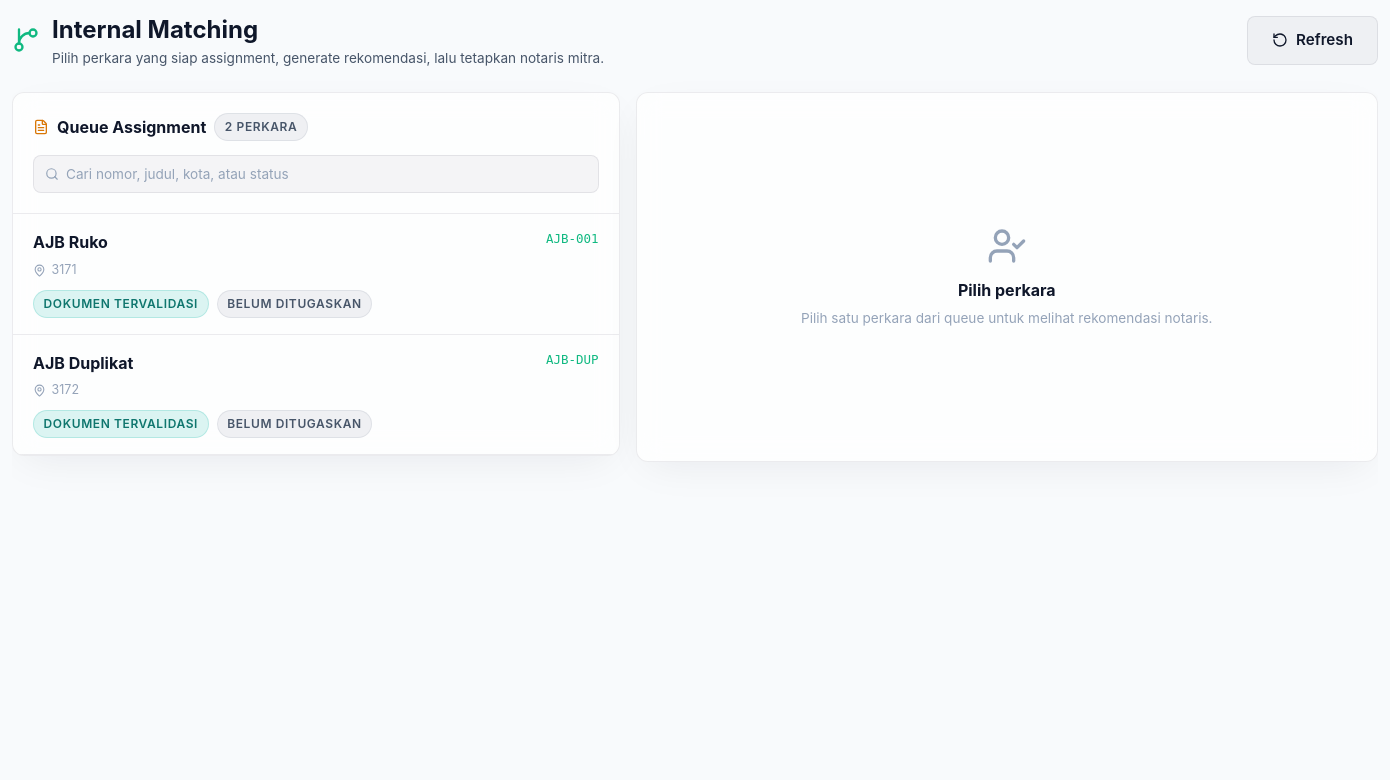
it: InternalMatching › selecting a matter enables recommendation fetch
What coordinates should you click on to do the following:
click the text "AJB Ruko"
I would click on:
 (70, 242)
Its box is [33, 230, 108, 254].
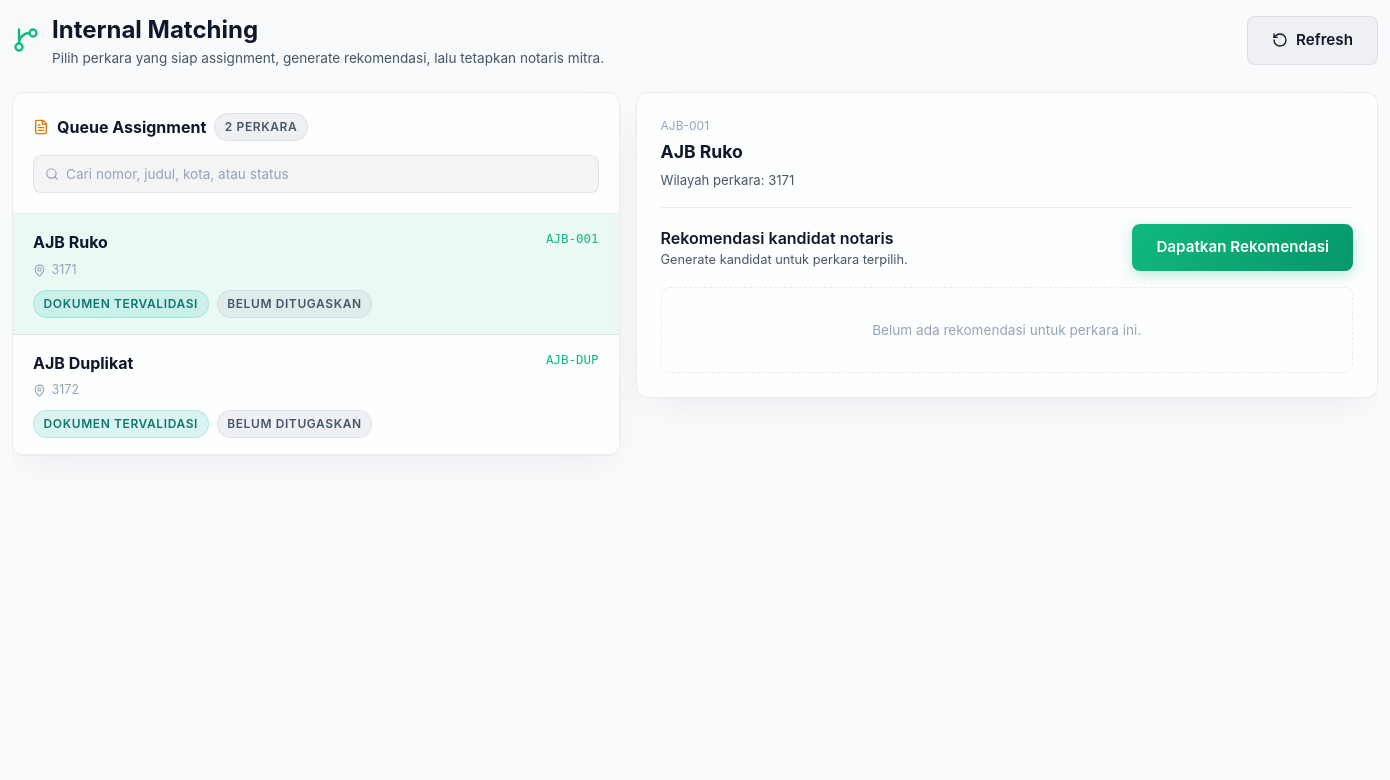
Expected: the text "Generate kandidat untuk perkara terpilih." is shown, [660, 250, 908, 269]
What coordinates should you click on to do the following:
click the button "Dapatkan Rekomendasi"
I would click on:
 (1243, 248)
Its box is [1132, 224, 1353, 271].
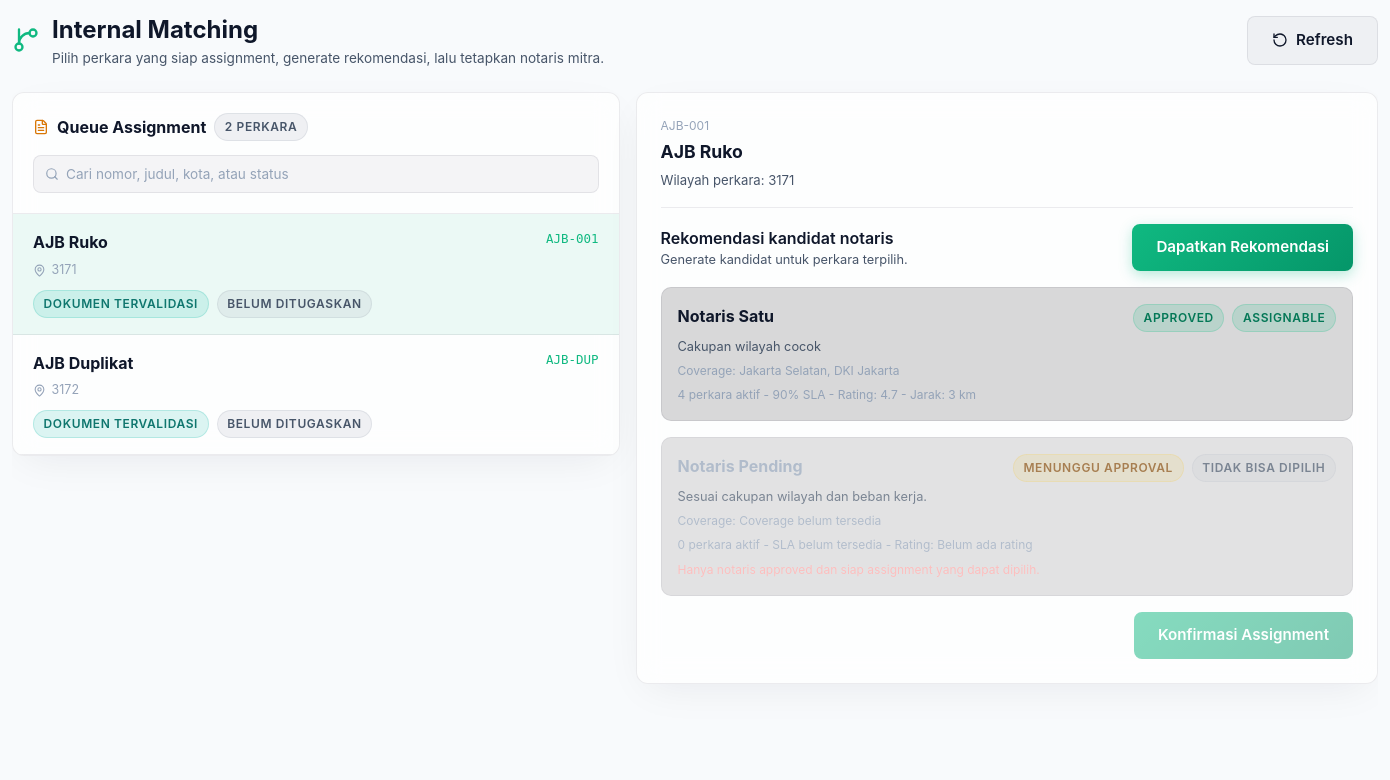
Expected: the text "Notaris Satu" is shown, [678, 304, 774, 332]
